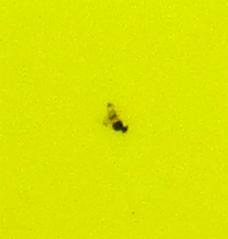Brachycera: (100, 100, 128, 139)
